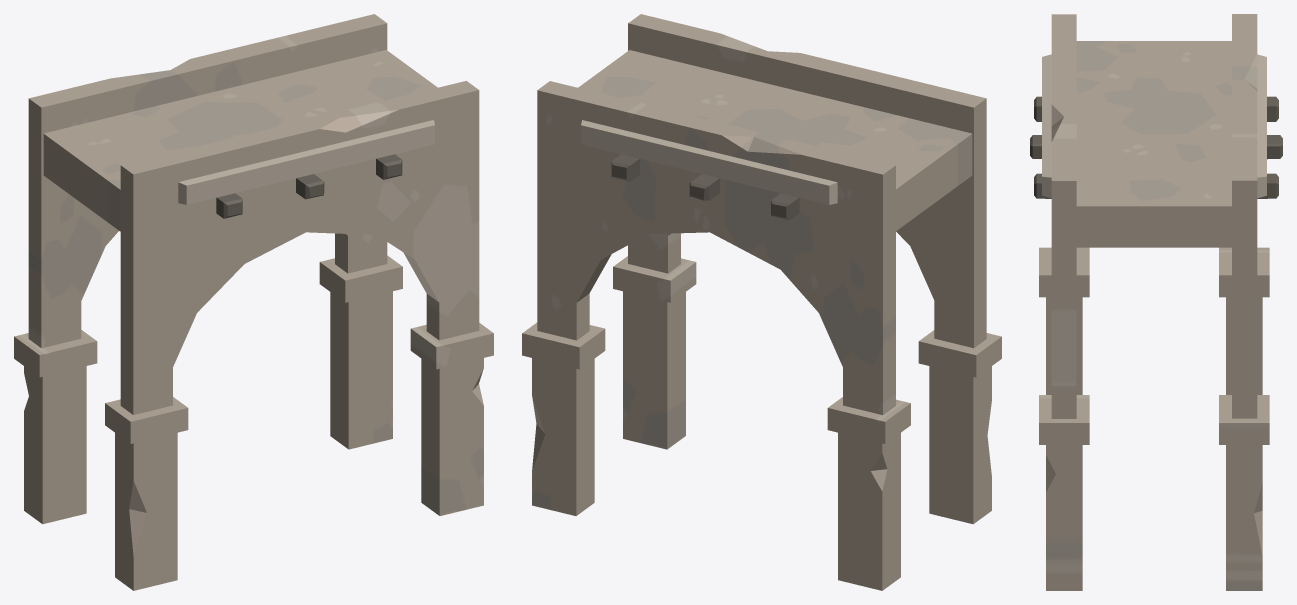
The model's file is SM_Bld_Village_ArchwayBridge_02.glb.
3 views of the same model, side by side, from view 1: azimuth 30°, elevation 25°; view 2: azimuth 150°, elevation 25°; view 3: azimuth 270°, elevation 25° (orthographic).
Parts seen in each view (by area): view 1: SM_Bld_Village_ArchwayBridge_02; view 2: SM_Bld_Village_ArchwayBridge_02; view 3: SM_Bld_Village_ArchwayBridge_02.
Boxes of the visible parts, x1,y1,x2,y2 form: SM_Bld_Village_ArchwayBridge_02: [14, 14, 493, 590]; SM_Bld_Village_ArchwayBridge_02: [522, 14, 1001, 590]; SM_Bld_Village_ArchwayBridge_02: [1030, 14, 1282, 590].
Bounding box in the file's own units: 4.11 × 4.48 × 2.51.
Materials: 1 (1 with a texture image).
